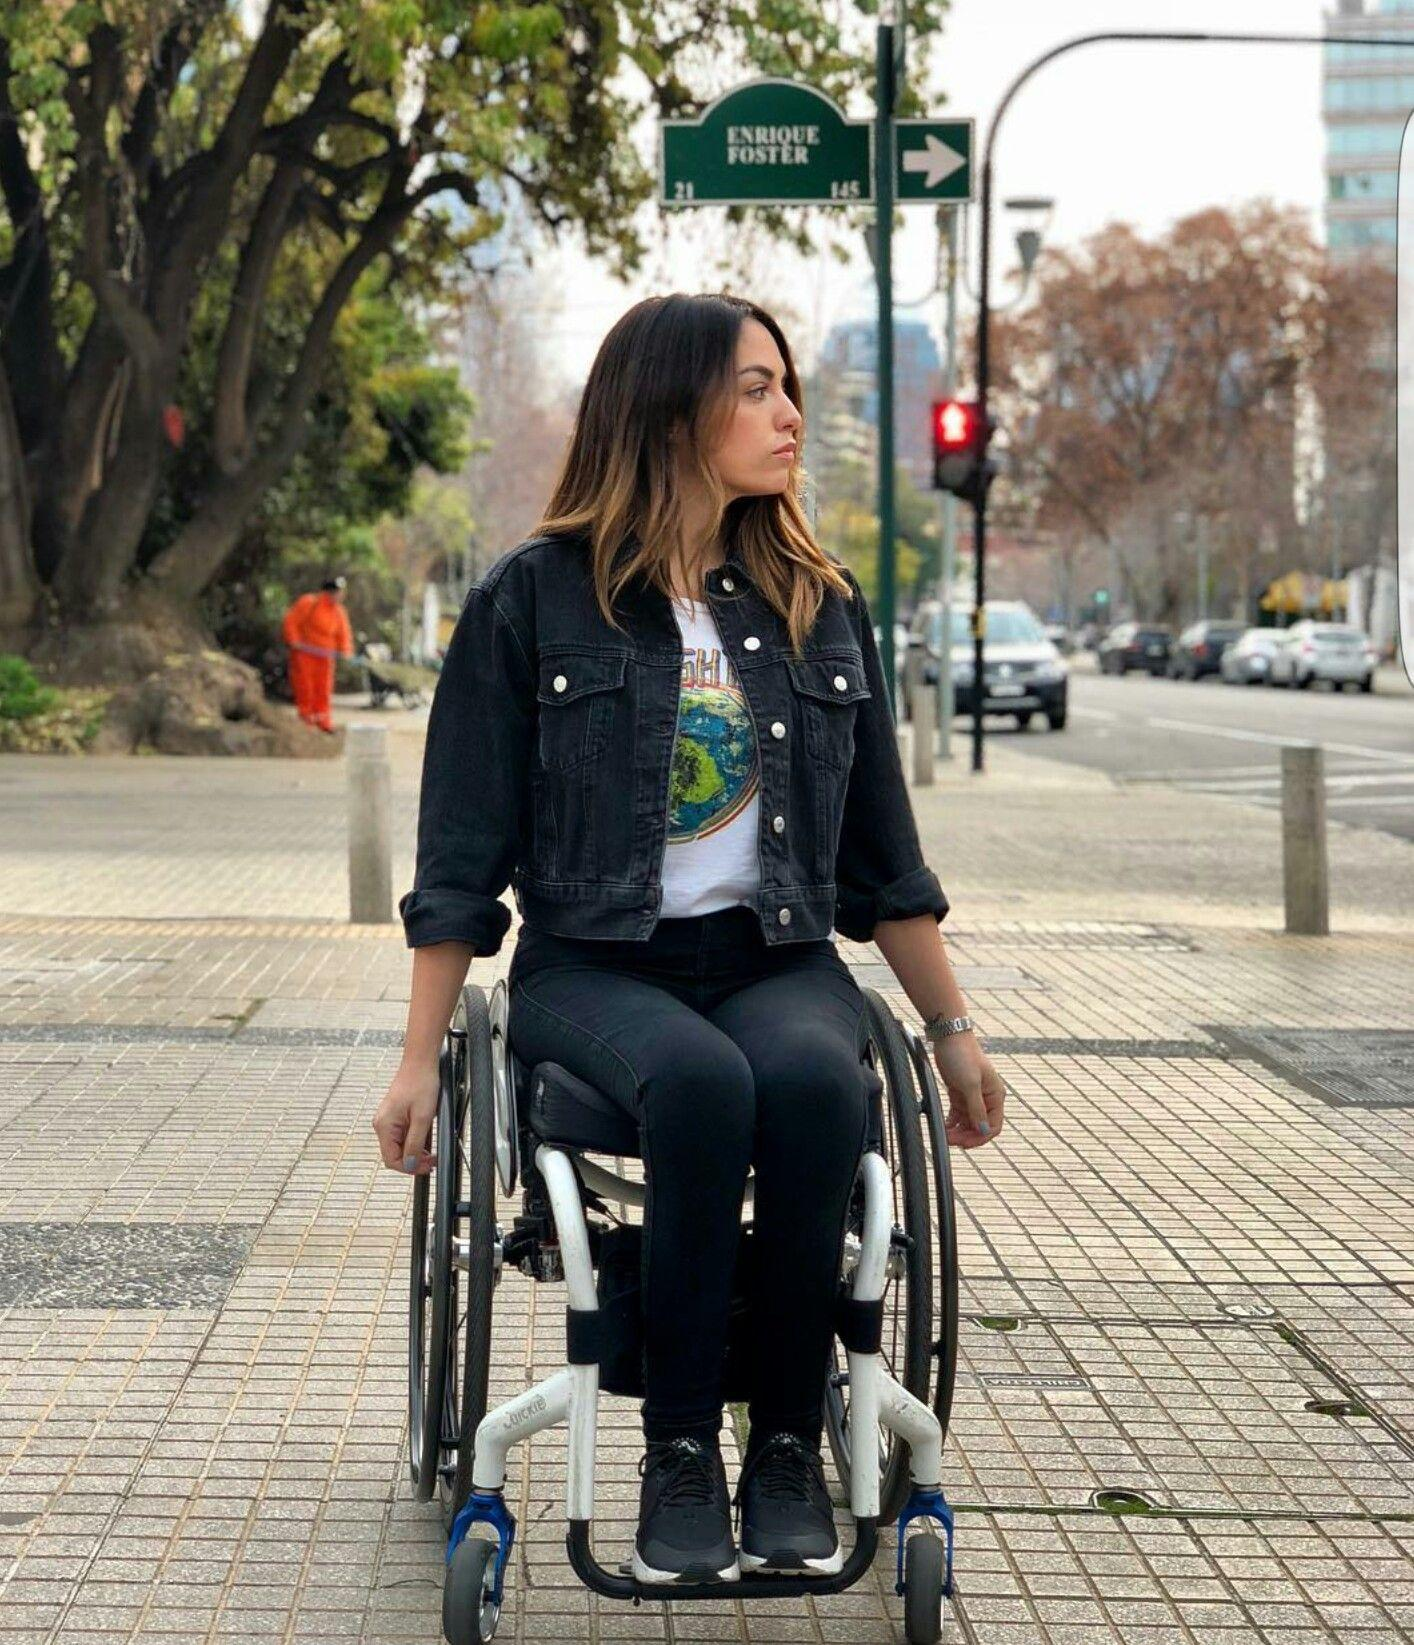wheelchair: (373, 292, 1008, 1645)
